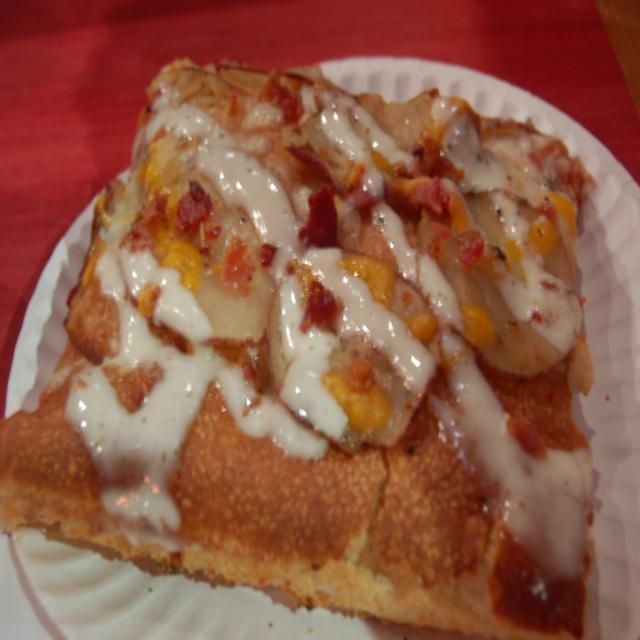Pizza: (8, 46, 594, 636)
